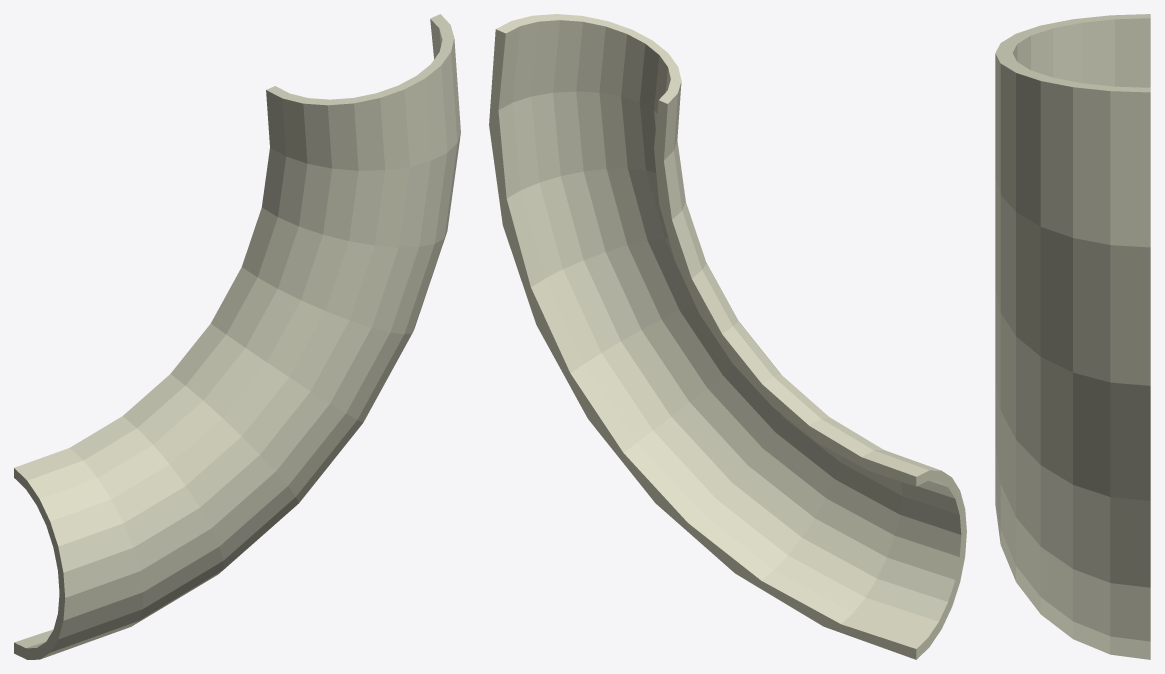
Rendered from section_170.obj.
3 renders of one model, left to right at view 1: azimuth 30°, elevation 25°; view 2: azimuth 150°, elevation 25°; view 3: azimuth 270°, elevation 25°, orthographic. The views are drawn at different scales.
Bounding box in the file's own units: 43.97 × 51.92 × 9.
